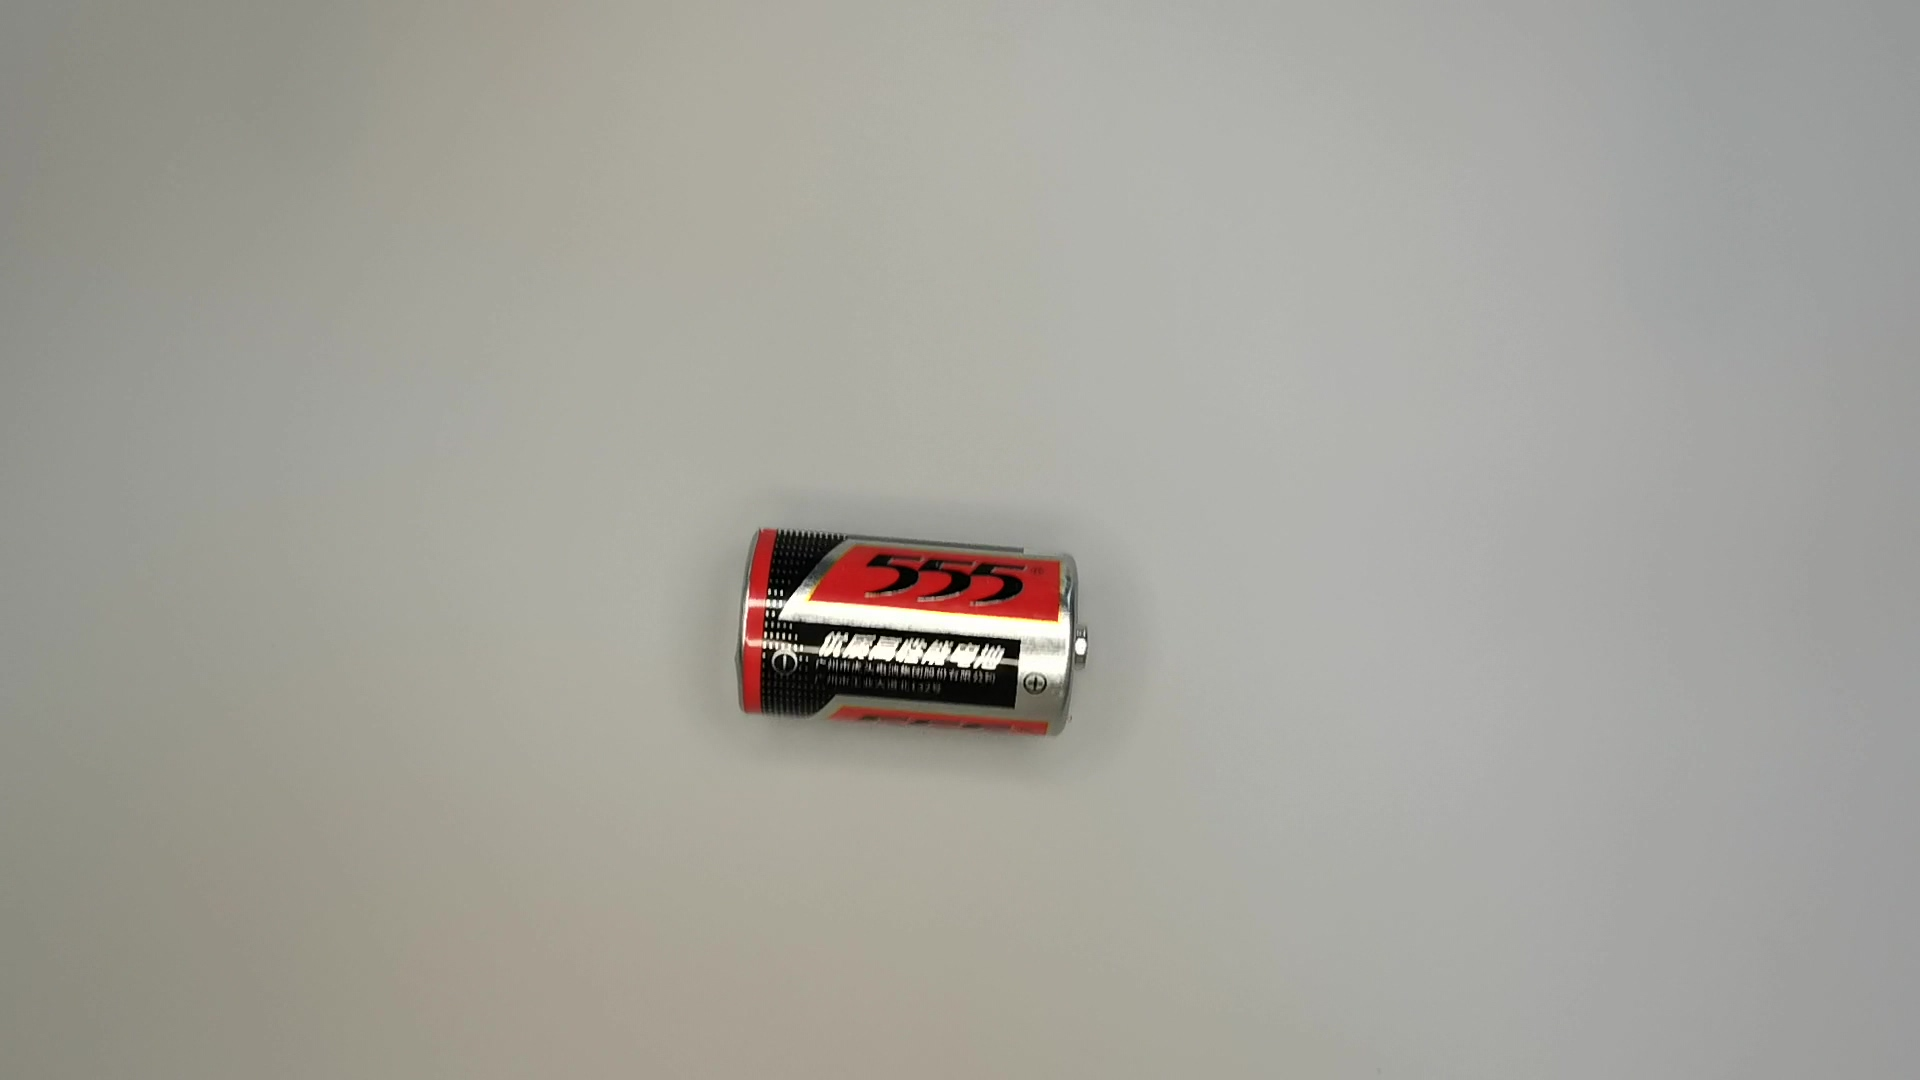battery: (727, 524, 1098, 750)
